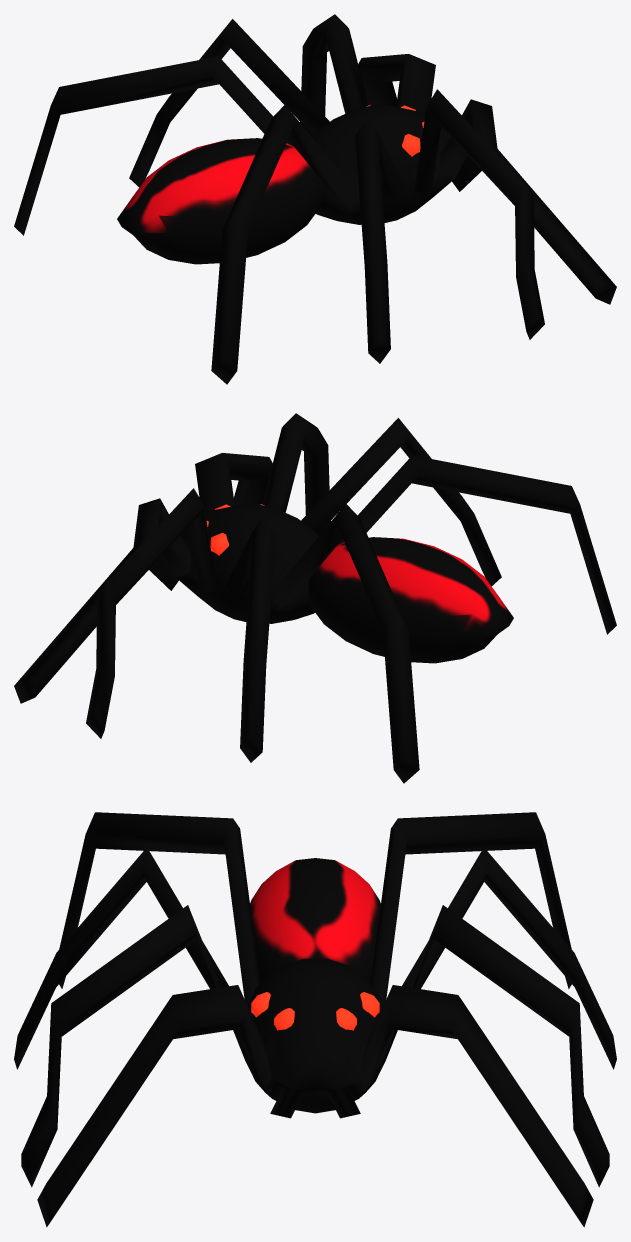
File: spider.glb
3 renders of one model, top to bottom at view 1: azimuth 30°, elevation 25°; view 2: azimuth 150°, elevation 25°; view 3: azimuth 270°, elevation 25°, orthographic. The views are drawn at different scales.
Parts seen in each view (by area): view 1: front, back; view 2: front, back; view 3: front, back.
Part boxes in pixels (left/top/right/bottom): front: left=14, top=14, right=616, bottom=384; back: left=117, top=138, right=322, bottom=264; front: left=14, top=413, right=616, bottom=783; back: left=308, top=537, right=513, bottom=663; front: left=14, top=812, right=616, bottom=1227; back: left=250, top=858, right=380, bottom=983.
Bounding box in the file's own units: 1.92 × 0.9993 × 2.02.
Materials: 3 (2 with a texture image).
